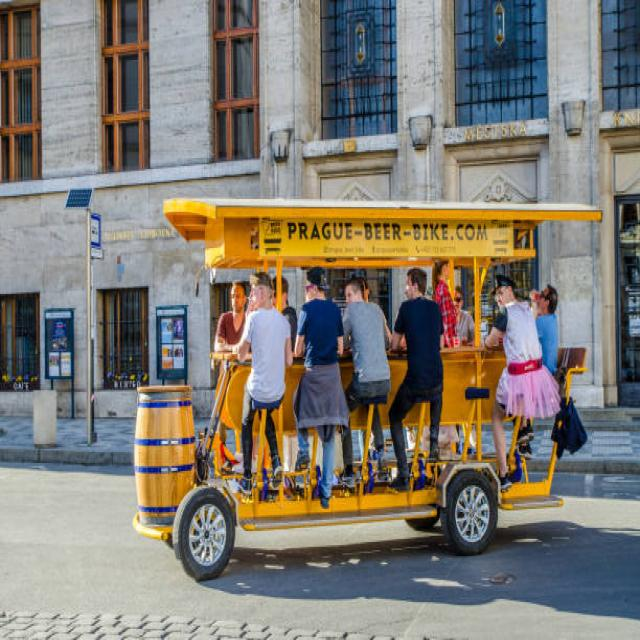Emperan: (117, 164, 611, 584)
